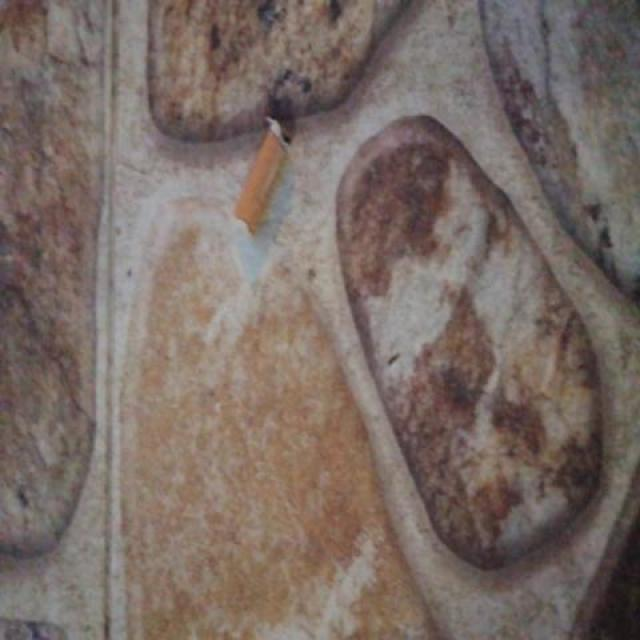non-organic waste: (227, 107, 297, 242)
